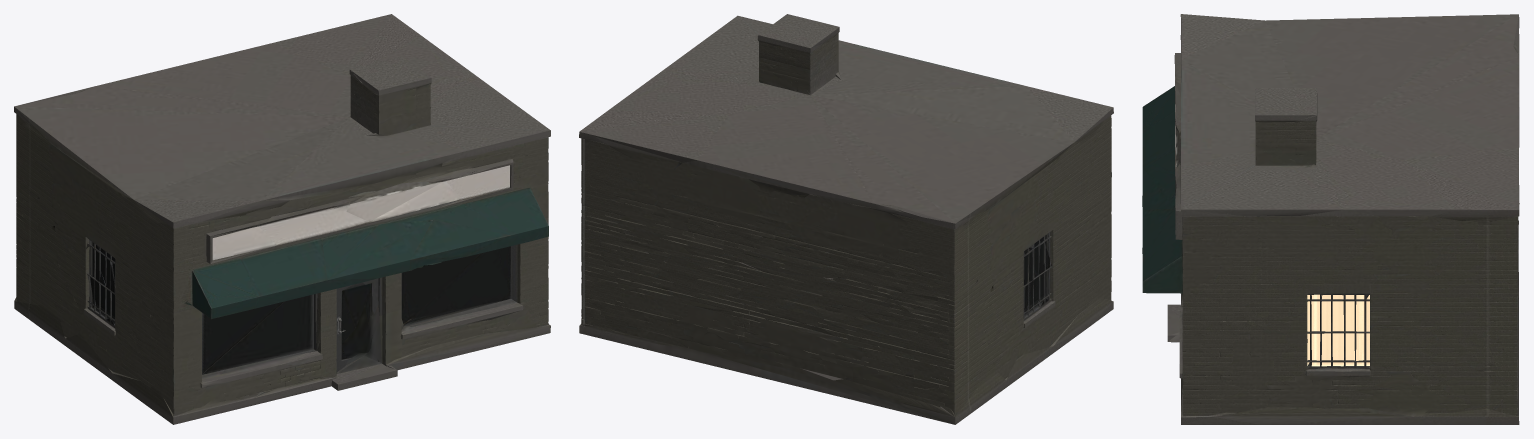
The model's file is job-pool-hall.glb.
The picture shows the model from 3 angles, left to right: view 1: azimuth 30°, elevation 25°; view 2: azimuth 150°, elevation 25°; view 3: azimuth 270°, elevation 25°; orthographic projection. The views are drawn at different scales.
Parts seen in each view (by area): view 1: Mesh_0; view 2: Mesh_0; view 3: Mesh_0.
Part boxes in pixels (box(x1,y1,x2,y2)): Mesh_0: box(14, 14, 550, 424); Mesh_0: box(579, 14, 1113, 424); Mesh_0: box(1142, 14, 1519, 424).
Size of the model in its own units: 11.06 by 7 by 8.99.
4 materials, 4 textured.
